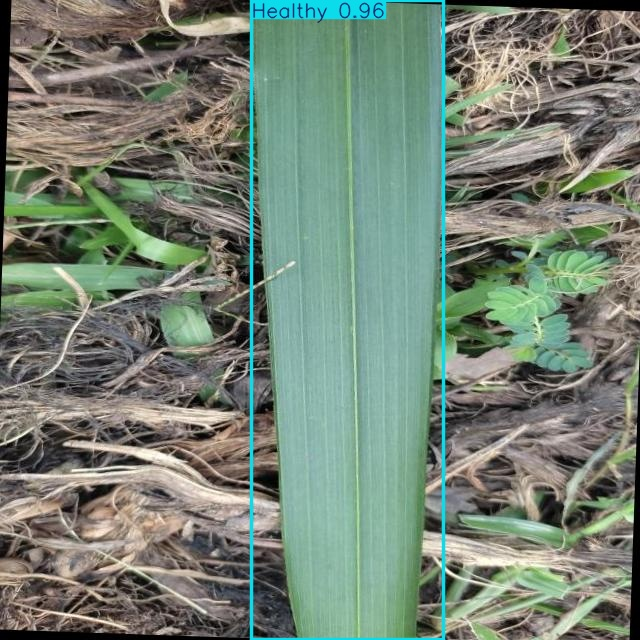Healthy: (252, 0, 444, 640)
